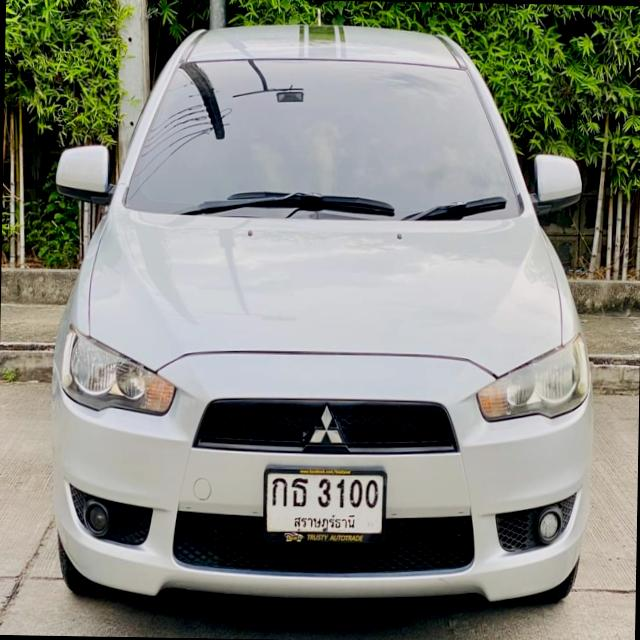license_plate: (259, 458, 388, 542)
